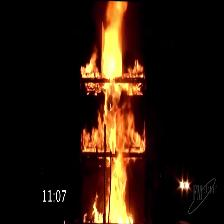fire: (96, 2, 128, 224)
